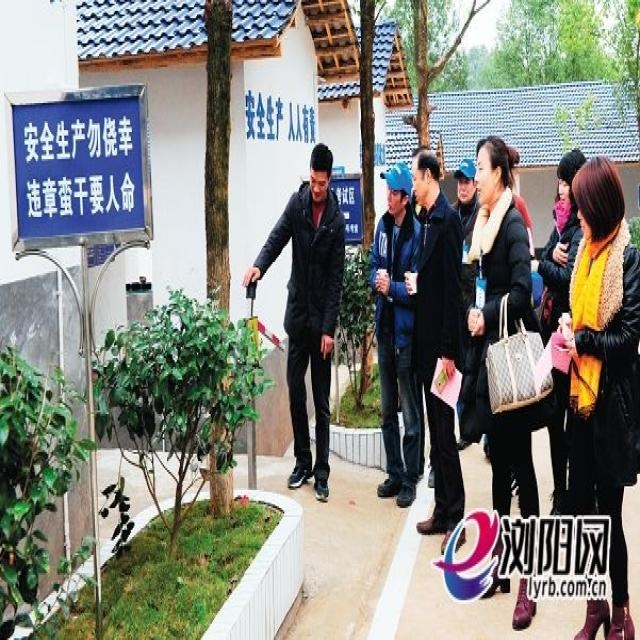Sin_Casco_Mascarrilla: (411, 143, 441, 205), (311, 141, 334, 203)
